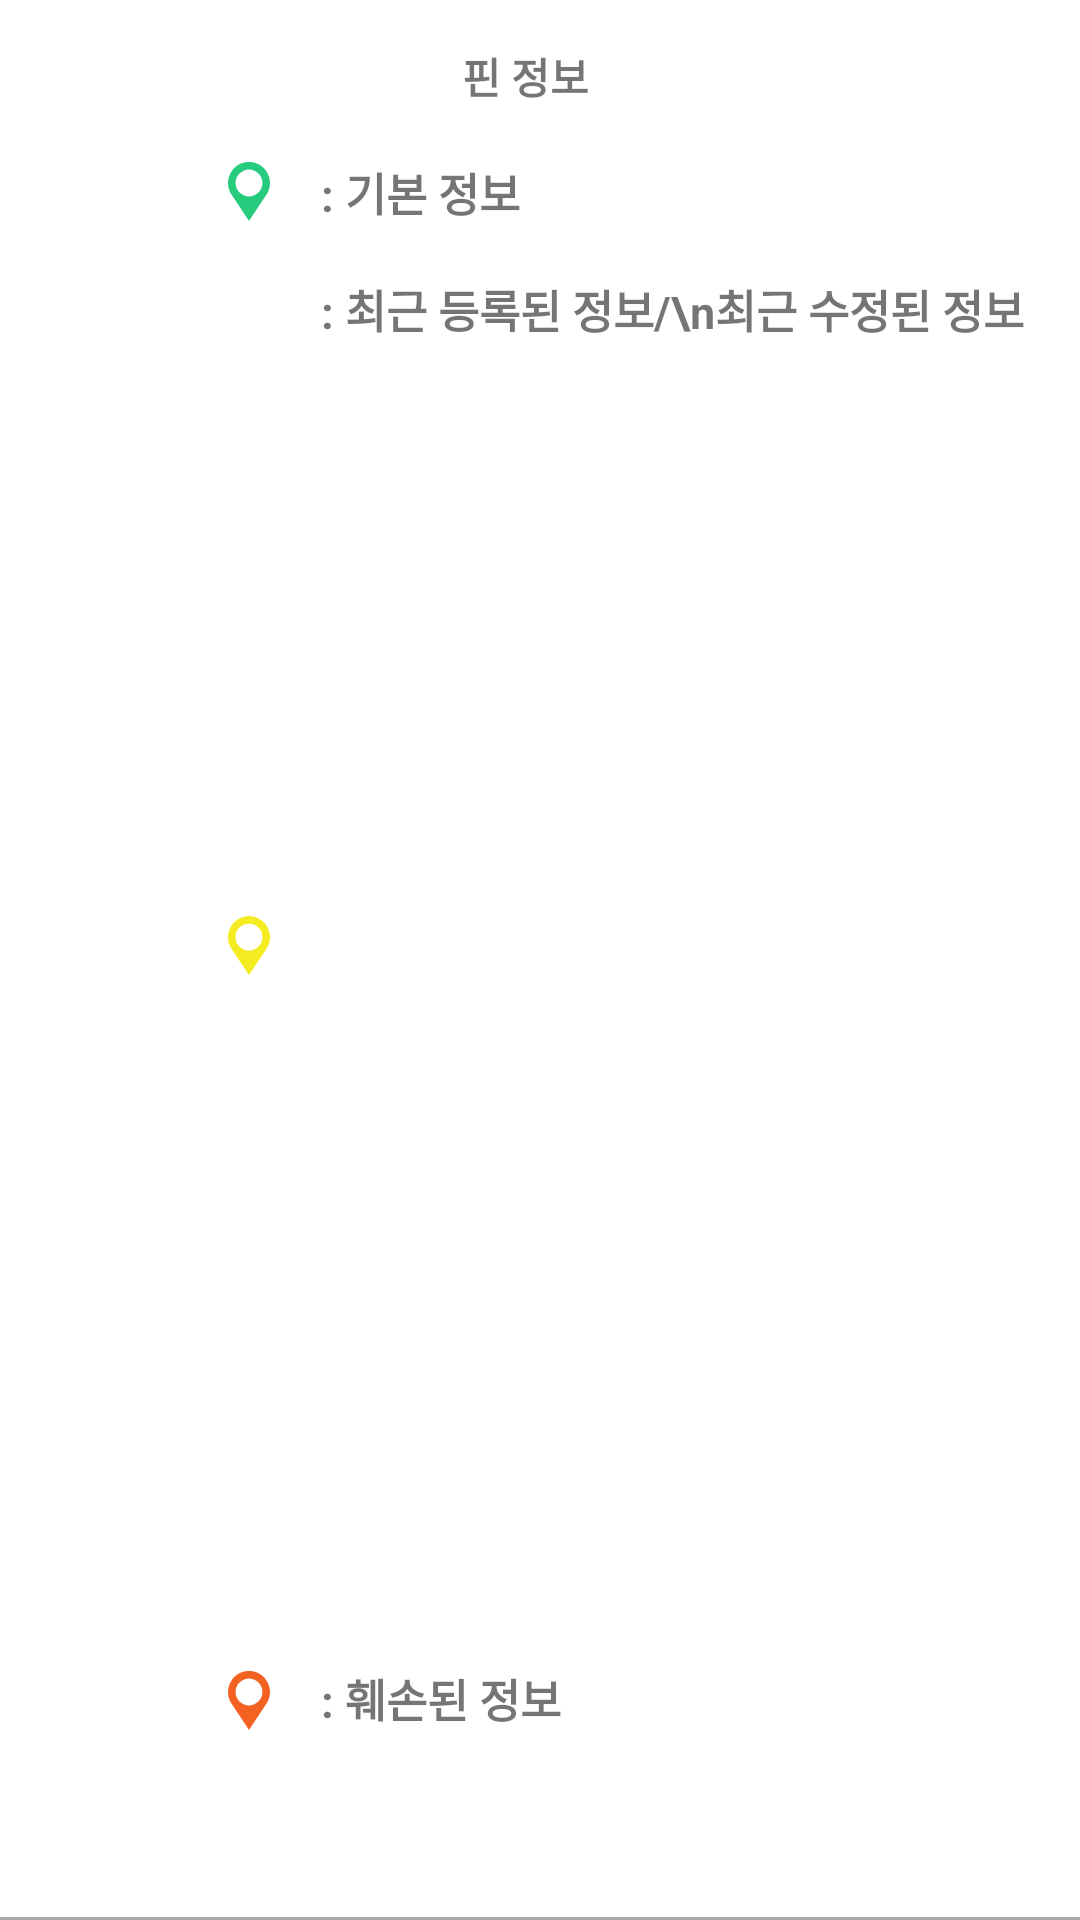

Named icons in this screenshot (1080px×1920px) and their bounding boxes, (x1, y1, x2, y2):
marker: (228, 162, 270, 221), (228, 916, 270, 975), (228, 1671, 270, 1730)
